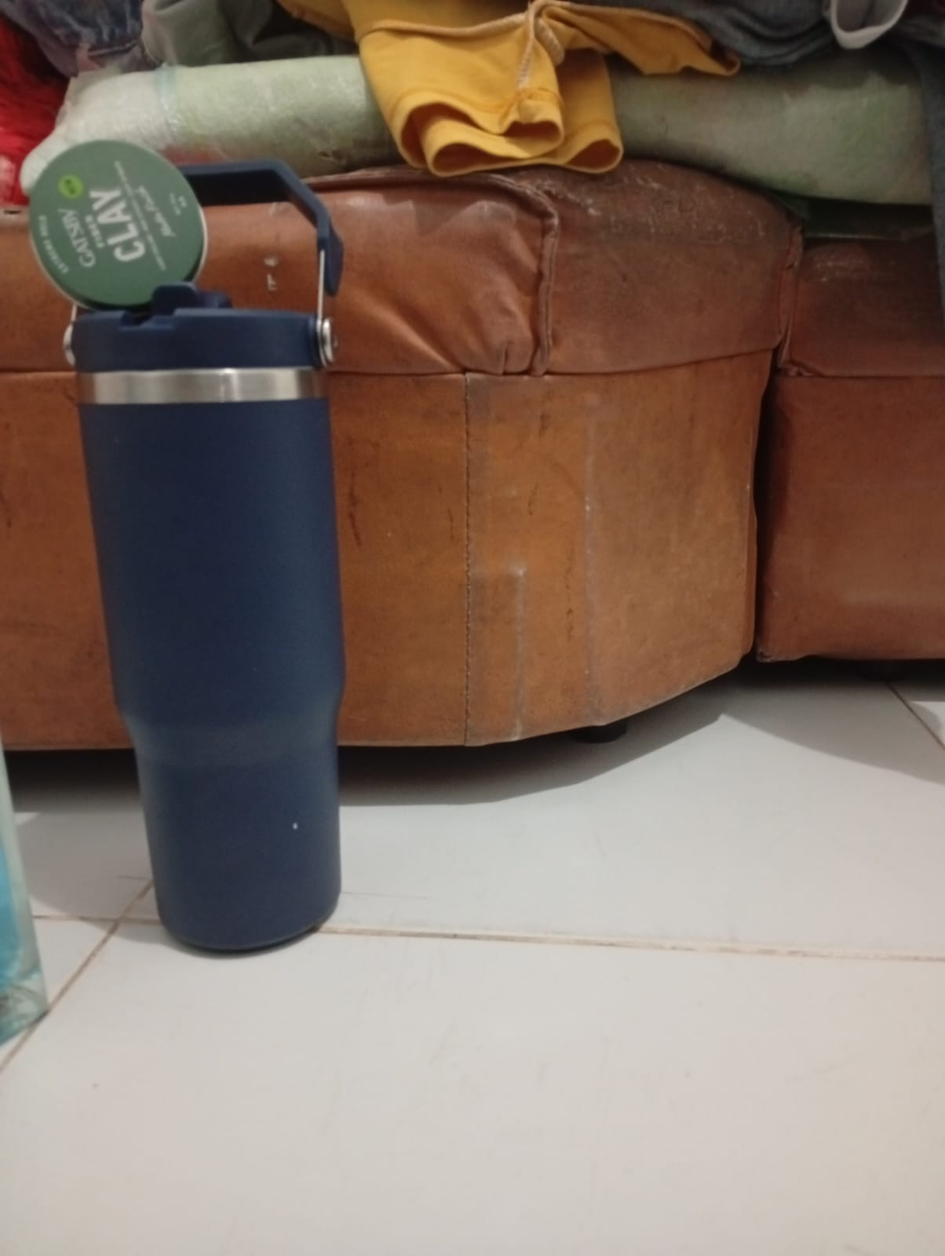Minyak_Rambut: (8, 128, 226, 316)
Tupperware: (60, 155, 381, 968)
